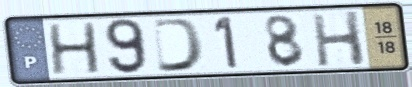1: (211, 14, 243, 71)
8: (262, 13, 308, 69)
9: (104, 17, 149, 76)
D: (150, 16, 207, 74)
H: (309, 9, 369, 69), (46, 20, 104, 77)
